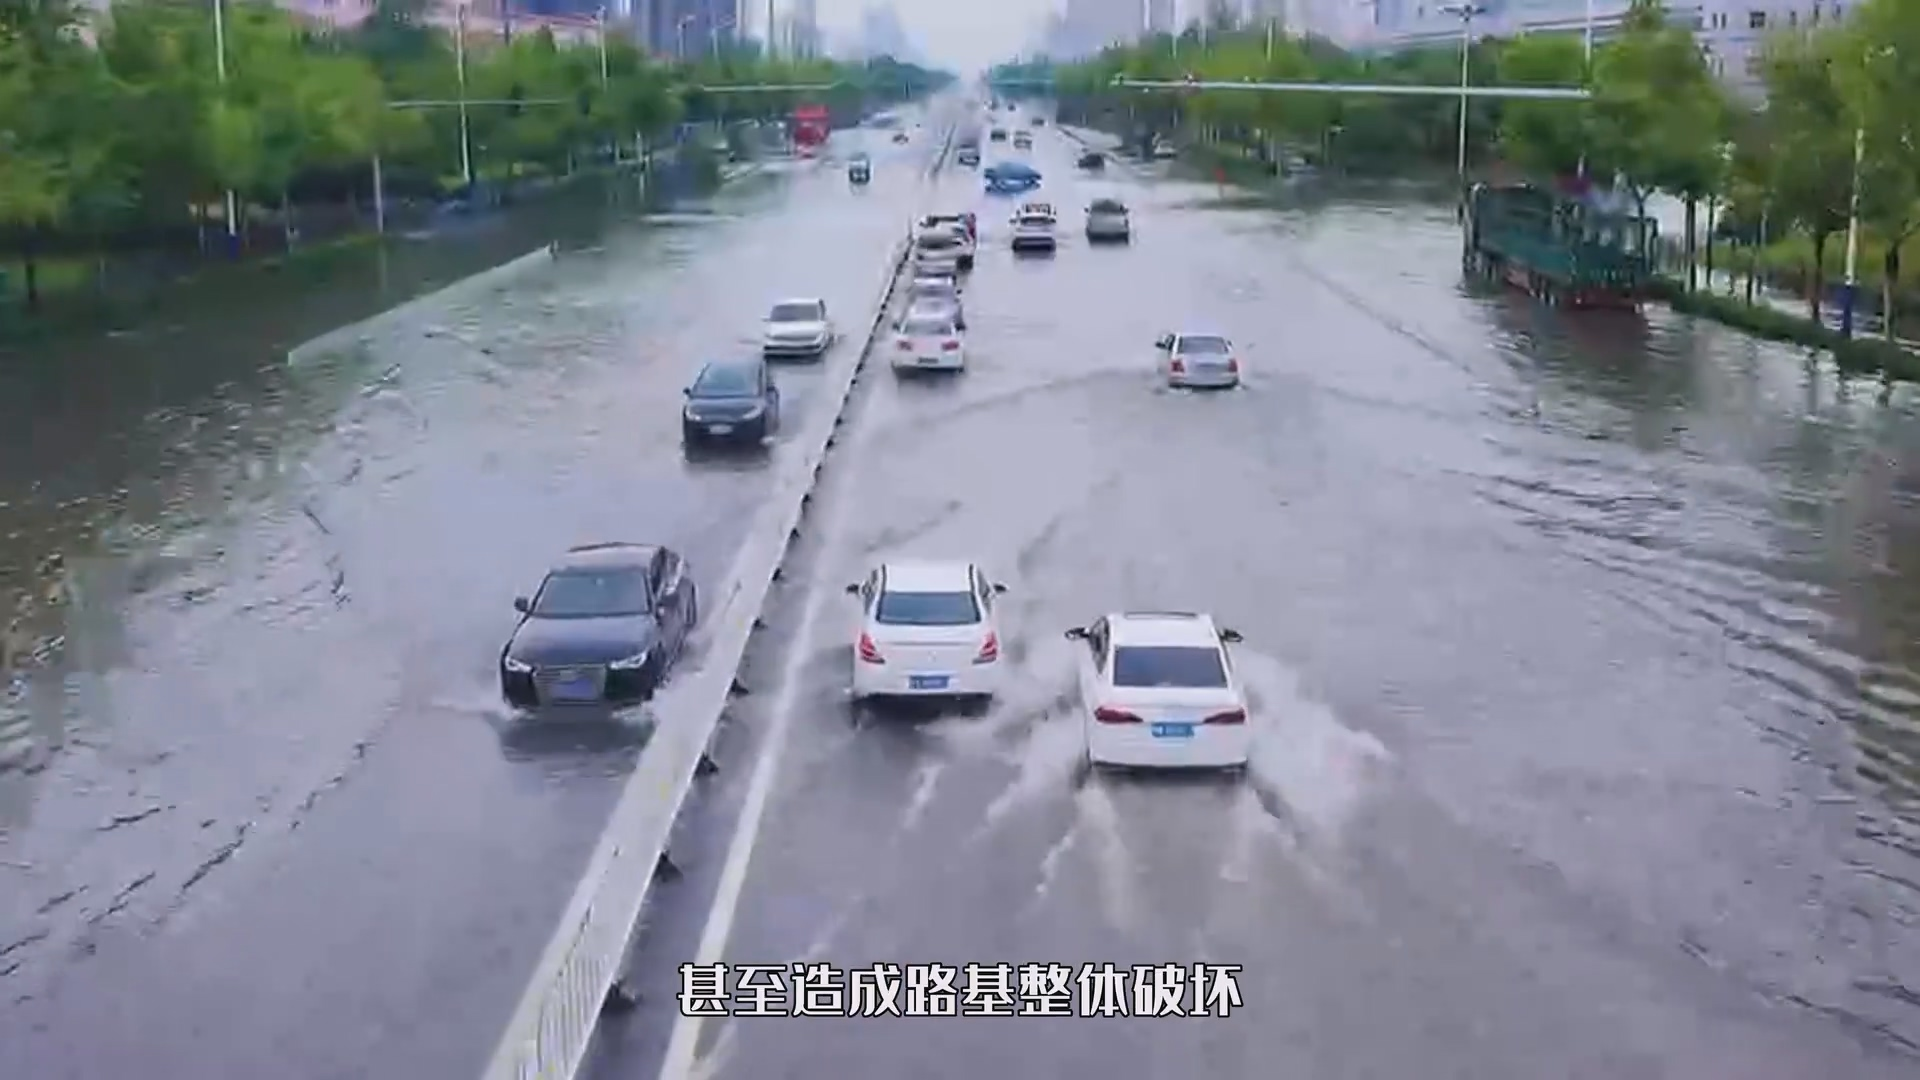puddle: (1, 285, 1920, 1080)
